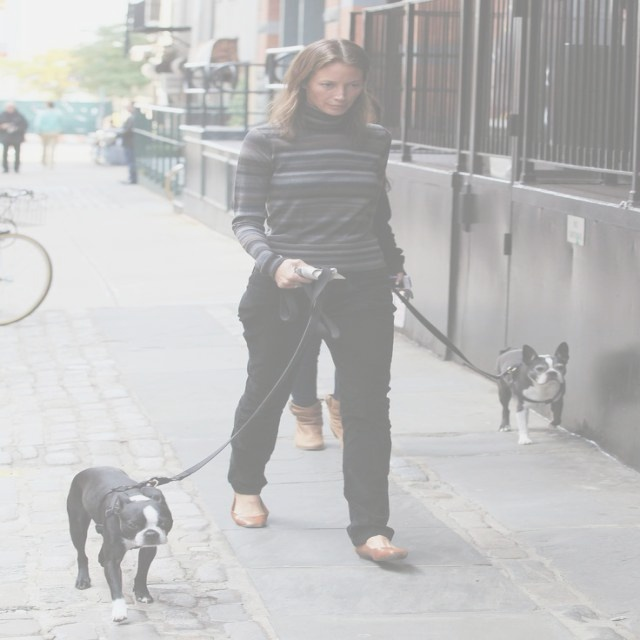pessoa: (214, 32, 418, 570), (286, 93, 384, 451), (112, 100, 140, 186), (33, 99, 66, 170), (0, 100, 30, 174)
